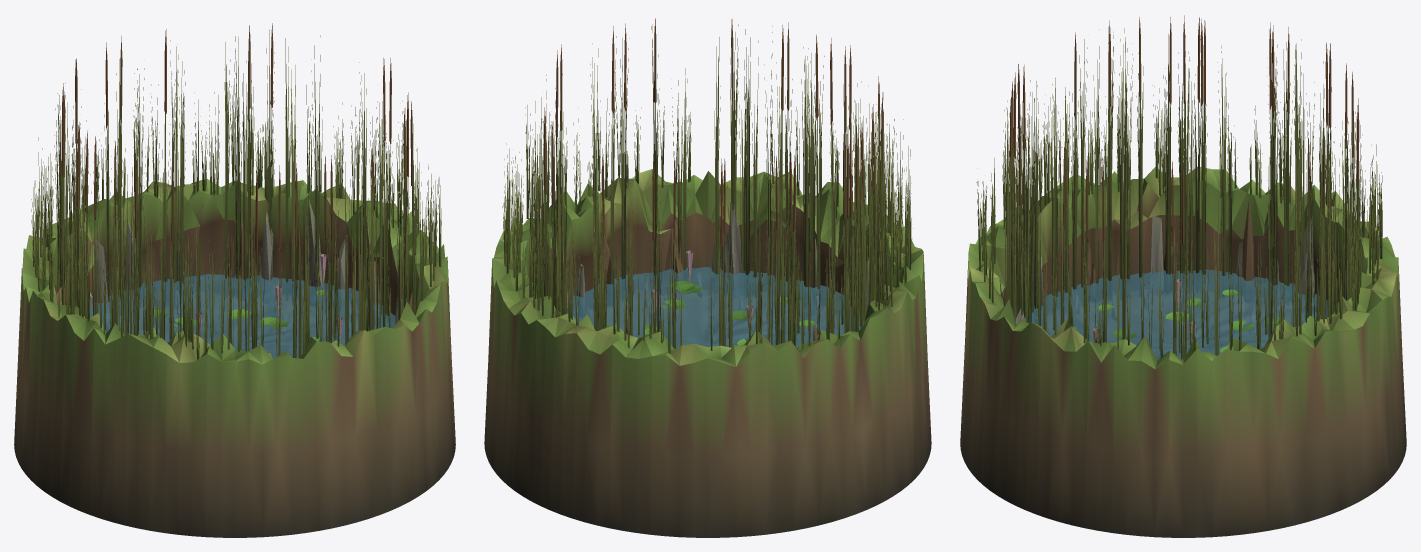
Rendered from lake.glb.
The picture shows the model from 3 angles, left to right: view 1: azimuth 30°, elevation 25°; view 2: azimuth 150°, elevation 25°; view 3: azimuth 270°, elevation 25°; orthographic projection.
Parts seen in each view (by area): view 1: lake, lake-translucent; view 2: lake, lake-translucent; view 3: lake, lake-translucent.
Part boxes in pixels (x1,y1,x2,y2): lake: (14,23,455,537); lake-translucent: (89,274,395,358); lake: (484,18,931,537); lake-translucent: (567,267,860,348); lake: (960,15,1406,537); lake-translucent: (1024,269,1334,360).
Bounding box in the file's own units: 1 × 0.8921 × 1.
